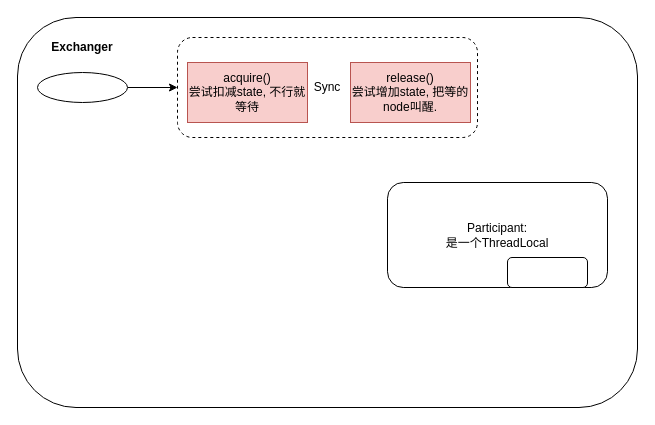
This 655x425 diagram has some shape labels left out. Here are the shapes that lost their labels. From the top down, the centre of each, then its label:
At (x=82, y=87): "sync: 通过sync操作锁".
At (x=547, y=272): "Node: 存放".
